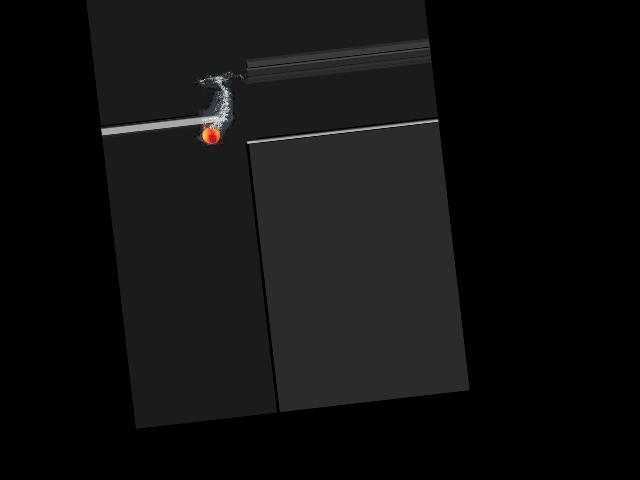tomato: (201, 126, 220, 144)
